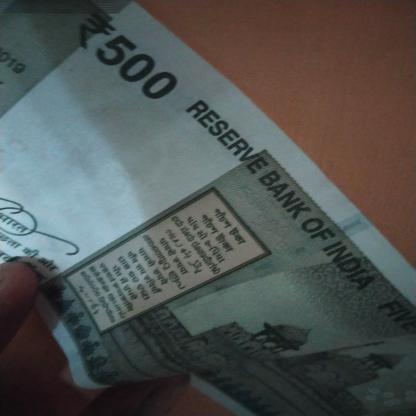New500Back: (6, 2, 416, 416)
